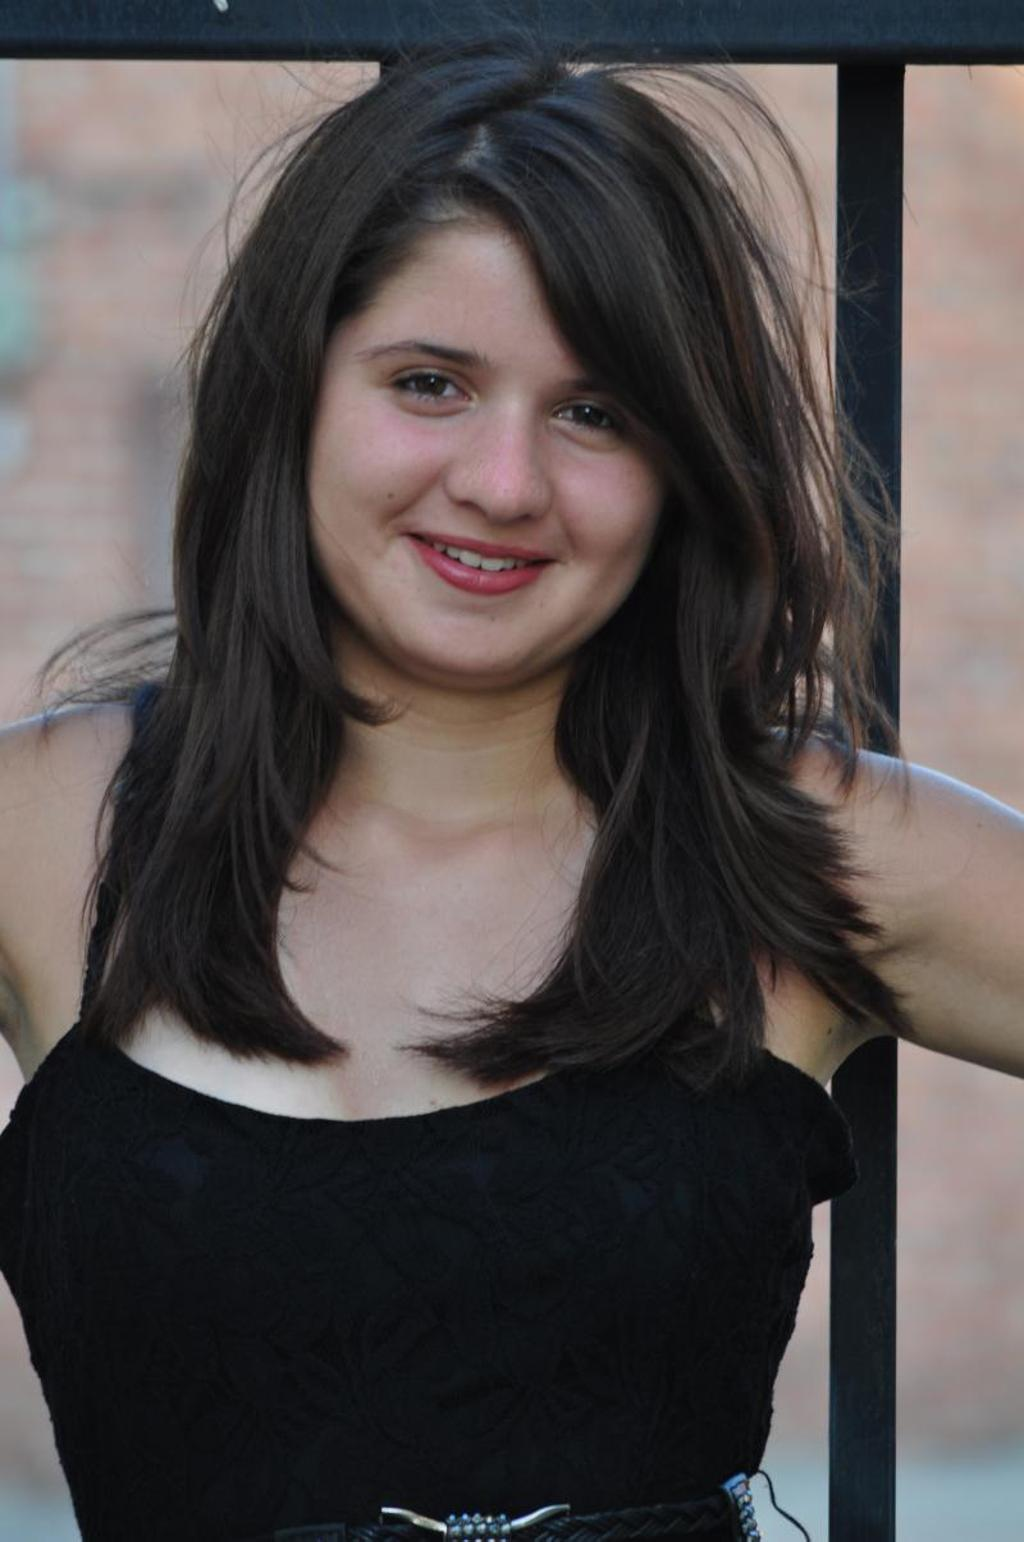face: (325, 205, 674, 681)
